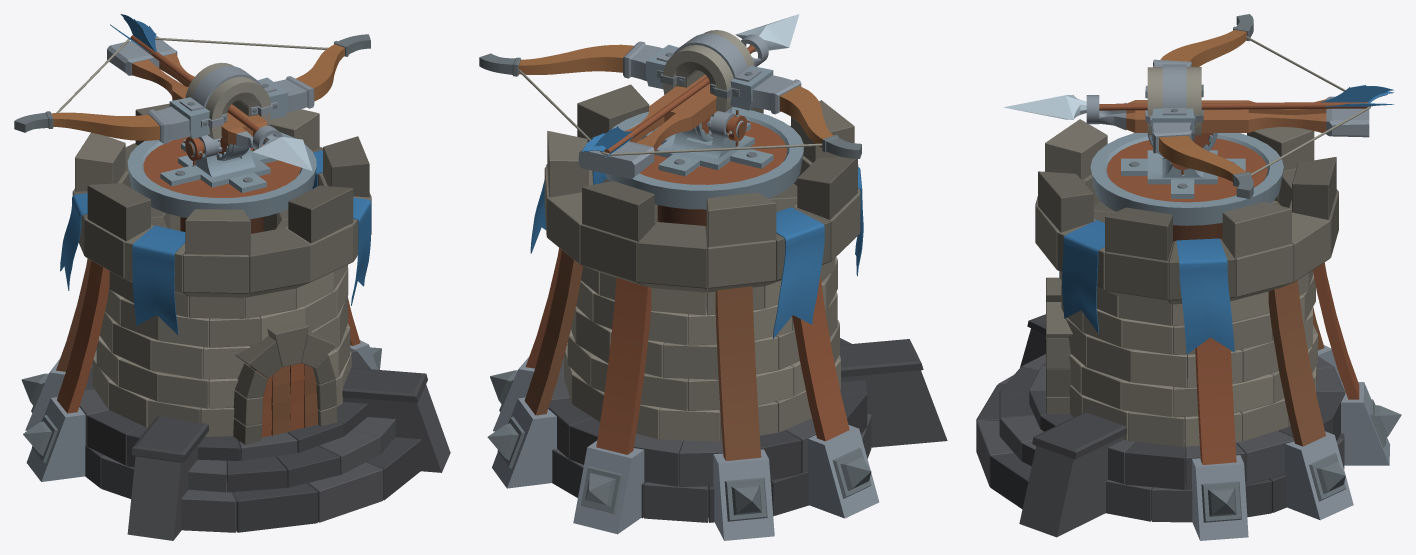
File: tower.fbx
The picture shows the model from 3 angles, left to right: view 1: azimuth 30°, elevation 25°; view 2: azimuth 150°, elevation 25°; view 3: azimuth 270°, elevation 25°; orthographic projection. The views are drawn at different scales.
Visible parts, largest first — view 1: Cube.010, Cube.012, Cube.011, Cube.009, Cylinder.004, Cube.019, Cube.008, Cube.033, Cube.018, Cube.032, Cube.031, Plane.009 (+22 smaller); view 2: Cube.012, Cube.011, Cube.009, Cylinder.004, Cube.019, Cube.024, Cube.029, Cube.032, Cube.007, Cube.031, Cube.028, Cube.022 (+24 smaller); view 3: Cube.012, Cube.009, Cube.011, Cylinder.004, Cube.018, Cube.010, Cube.032, Cube.031, Plane.007, Cube.026, Cube.007, Cube.033 (+24 smaller).
Part boxes in pixels (<box>): Cube.010: <box>181,417,421,532</box>; Cube.012: <box>75,103,369,257</box>; Cube.011: <box>72,143,371,297</box>; Cube.009: <box>79,348,370,498</box>; Cylinder.004: <box>127,132,316,219</box>; Cube.019: <box>127,416,208,540</box>; Cube.008: <box>233,321,337,444</box>; Cube.033: <box>105,268,348,347</box>; Cube.018: <box>342,367,450,472</box>; Cube.032: <box>99,296,347,379</box>; Cube.031: <box>96,324,350,408</box>; Plane.009: <box>132,225,185,334</box>; Cube.012: <box>547,84,857,247</box>; Cube.011: <box>544,125,860,294</box>; Cube.009: <box>548,357,871,522</box>; Cylinder.004: <box>605,107,803,209</box>; Cube.019: <box>839,339,947,447</box>; Cube.024: <box>715,286,761,460</box>; Cube.029: <box>596,277,651,454</box>; Cube.032: <box>571,292,837,379</box>; Cube.007: <box>564,344,840,441</box>; Cube.031: <box>567,320,839,410</box>; Cube.028: <box>573,440,644,534</box>; Cube.022: <box>808,425,879,518</box>; Cube.012: <box>1038,119,1336,260</box>; Cube.009: <box>1029,356,1345,522</box>; Cube.011: <box>1035,168,1338,304</box>; Cylinder.004: <box>1090,133,1283,225</box>; Cube.018: <box>1019,412,1126,537</box>; Cube.010: <box>976,354,1045,509</box>; Cube.032: <box>1065,307,1312,387</box>; Cube.031: <box>1069,325,1317,417</box>; Plane.007: <box>1176,238,1234,354</box>; Cube.026: <box>1268,280,1325,446</box>; Cube.007: <box>1069,365,1316,450</box>; Cube.033: <box>1061,273,1315,354</box>.
Bounding box in the file's own units: 705 × 717 × 712.
